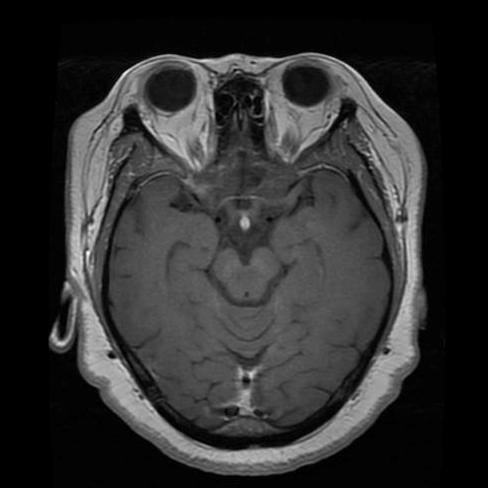Tumour-Pituitary: (240, 214, 251, 234)
